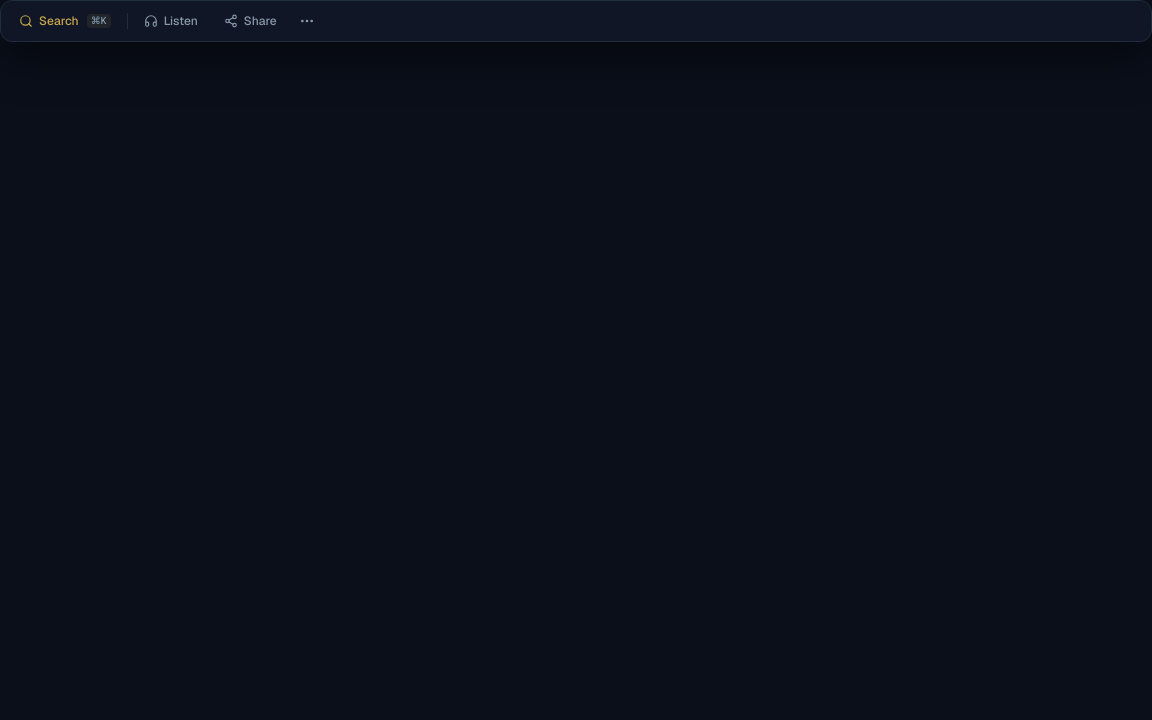
CanvasToolbar layout › puts saving, downloads and Clear canvas in the More menu
The width and height of the screenshot is (1152, 720).
What coordinates should you click on to do the following:
click the button named "More"
I would click on:
 (307, 21)
Its box is [291,7,323,35].
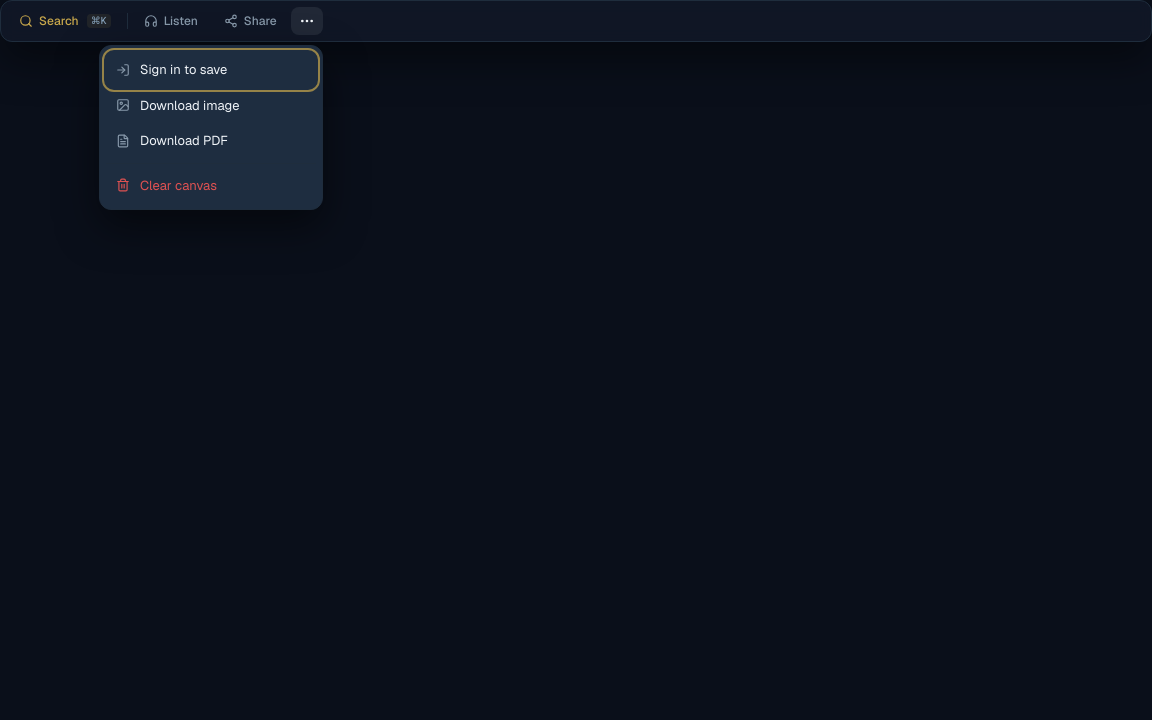
Now the button "Sign in to save" is shown, box [106,52,316,88]
Now the button "Download image" is shown, box [106,88,316,123]
Now the button "Download PDF" is shown, box [106,123,316,158]
